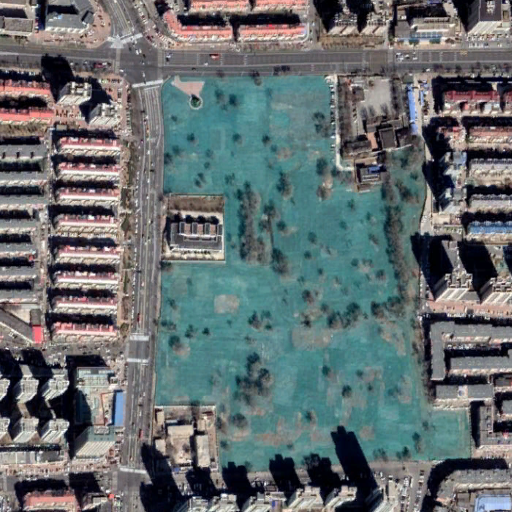cw: (156, 73, 472, 470)
